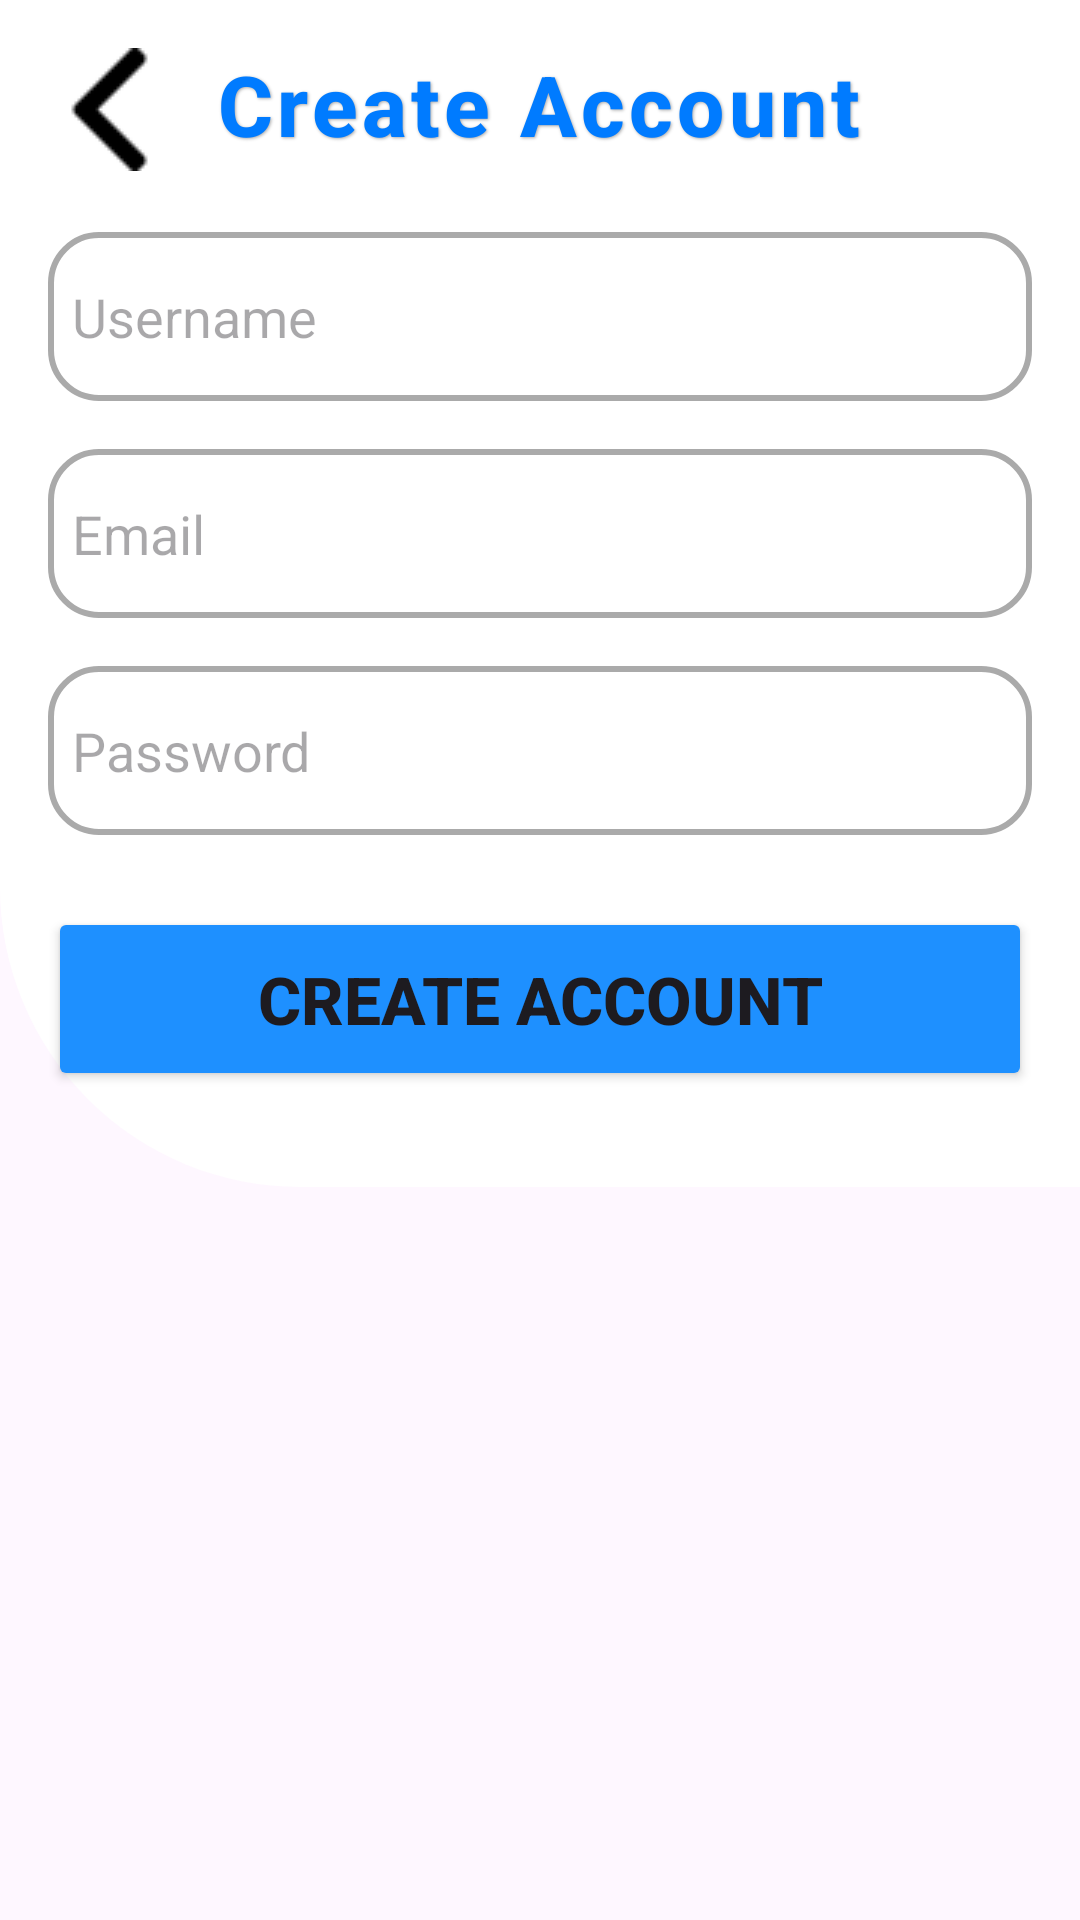

Screen size 1080px x 1920px. Icon name, then its box in pixels as {"x1": x1, "y1": y1, "x2": x2, "y2": y2}:
left arrow: {"x1": 71, "y1": 48, "x2": 148, "y2": 171}
